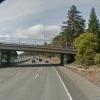Bridge: (0, 28, 81, 60)
